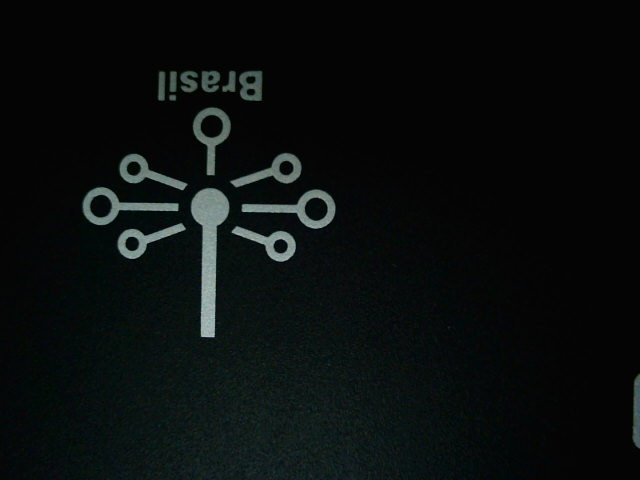BG_Brasil: (57, 53, 346, 356)
